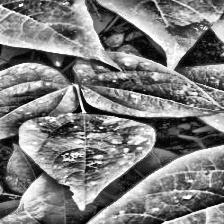Bean Rust: (58, 141, 224, 224), (68, 41, 220, 119), (23, 117, 152, 197), (0, 64, 76, 155), (186, 60, 224, 150)
